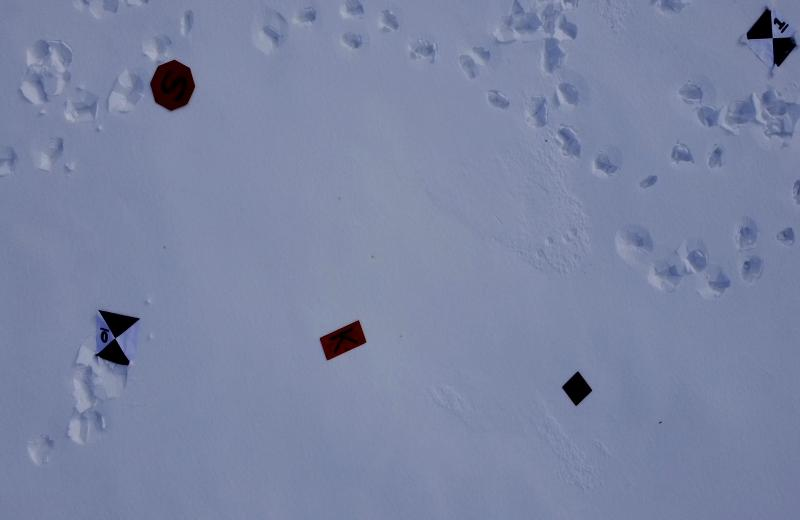Octagon: (149, 59, 197, 114)
Rectangle: (320, 320, 368, 362)
Square: (561, 372, 592, 407)
